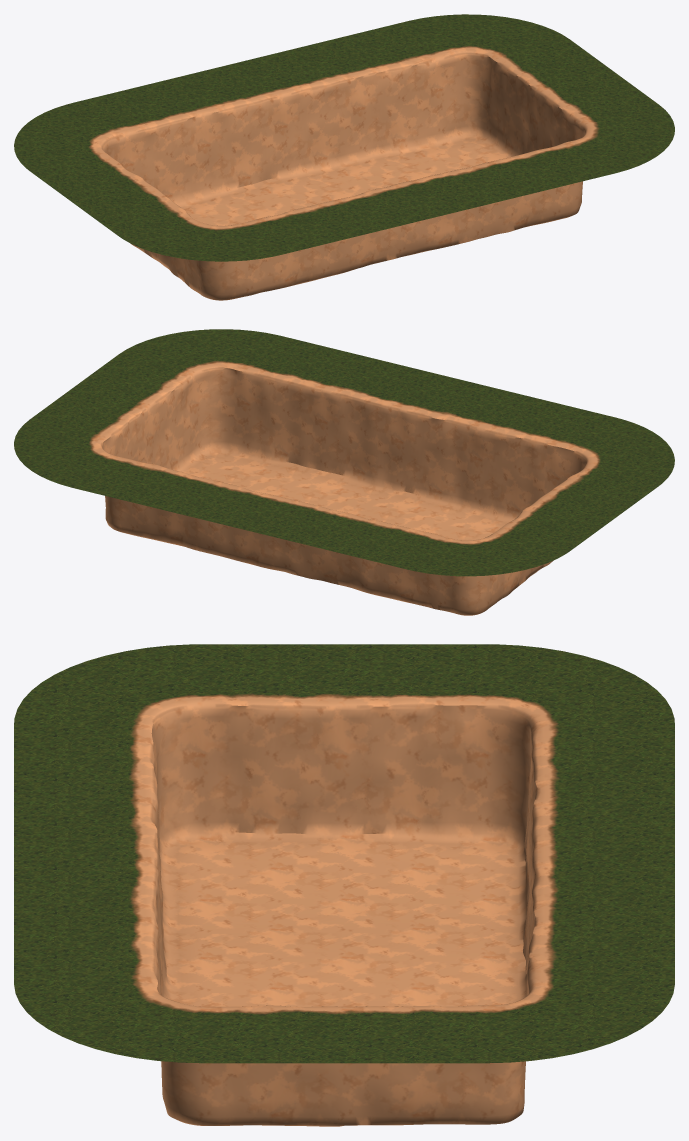
File: leaftown_pond.glb
3 renders of one model, top to bottom at view 1: azimuth 30°, elevation 25°; view 2: azimuth 150°, elevation 25°; view 3: azimuth 270°, elevation 25°, orthographic. The views are drawn at different scales.
Parts seen in each view (by area): view 1: Estanque; view 2: Estanque; view 3: Estanque.
Part boxes in pixels (x1,y1,x2,y2): Estanque: (14, 14, 674, 300); Estanque: (14, 329, 674, 615); Estanque: (14, 644, 674, 1126).
Size of the model in its own units: 21 by 3.05 by 14.
Materials: 1 (1 with a texture image).
